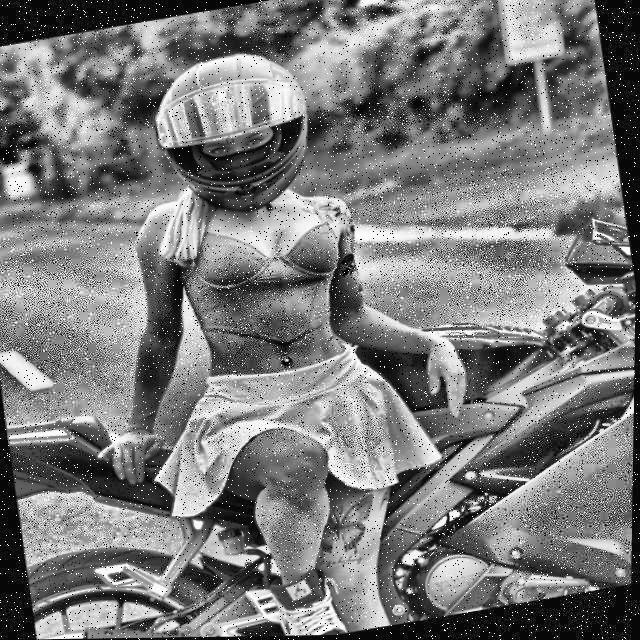Helmet: (138, 38, 328, 233)
